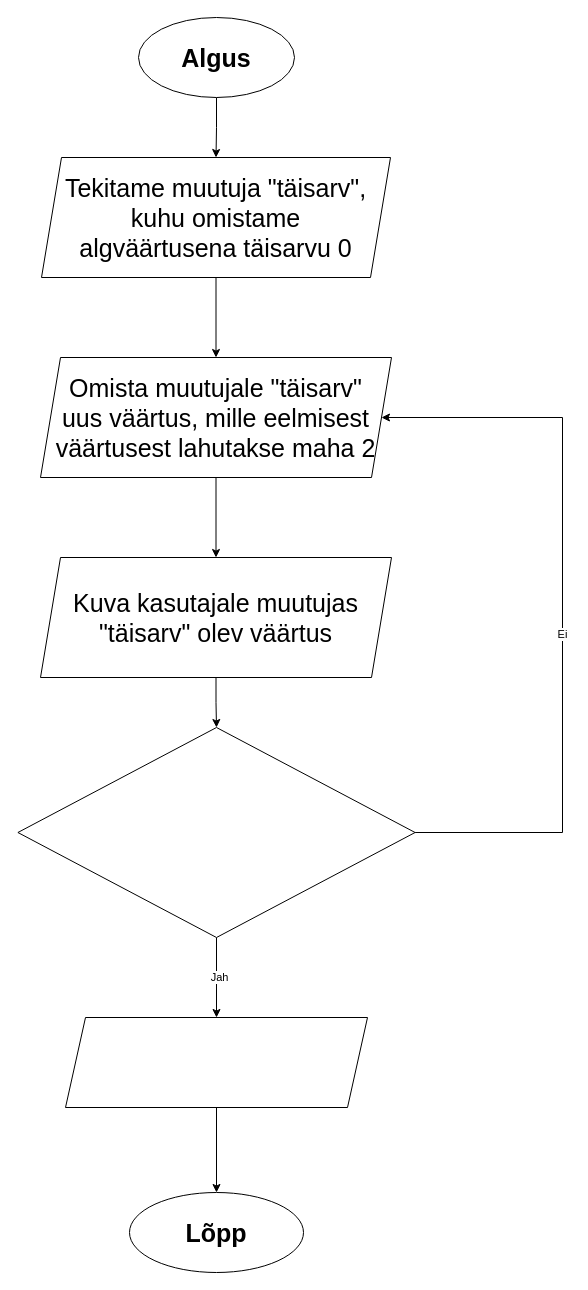
Some shapes in this 588 by 1290 pixel diagram are drawn without their labels. The shapes that lost their labels are listed below. From the top down, each one's centre as x and y in pixels, then its label:
point 216,832: Kas muutujas "täisarv" on väärtus väiksem kui -31?
point 216,1062: Kuva kasutajale tekst "tsükkel lõpetas"
